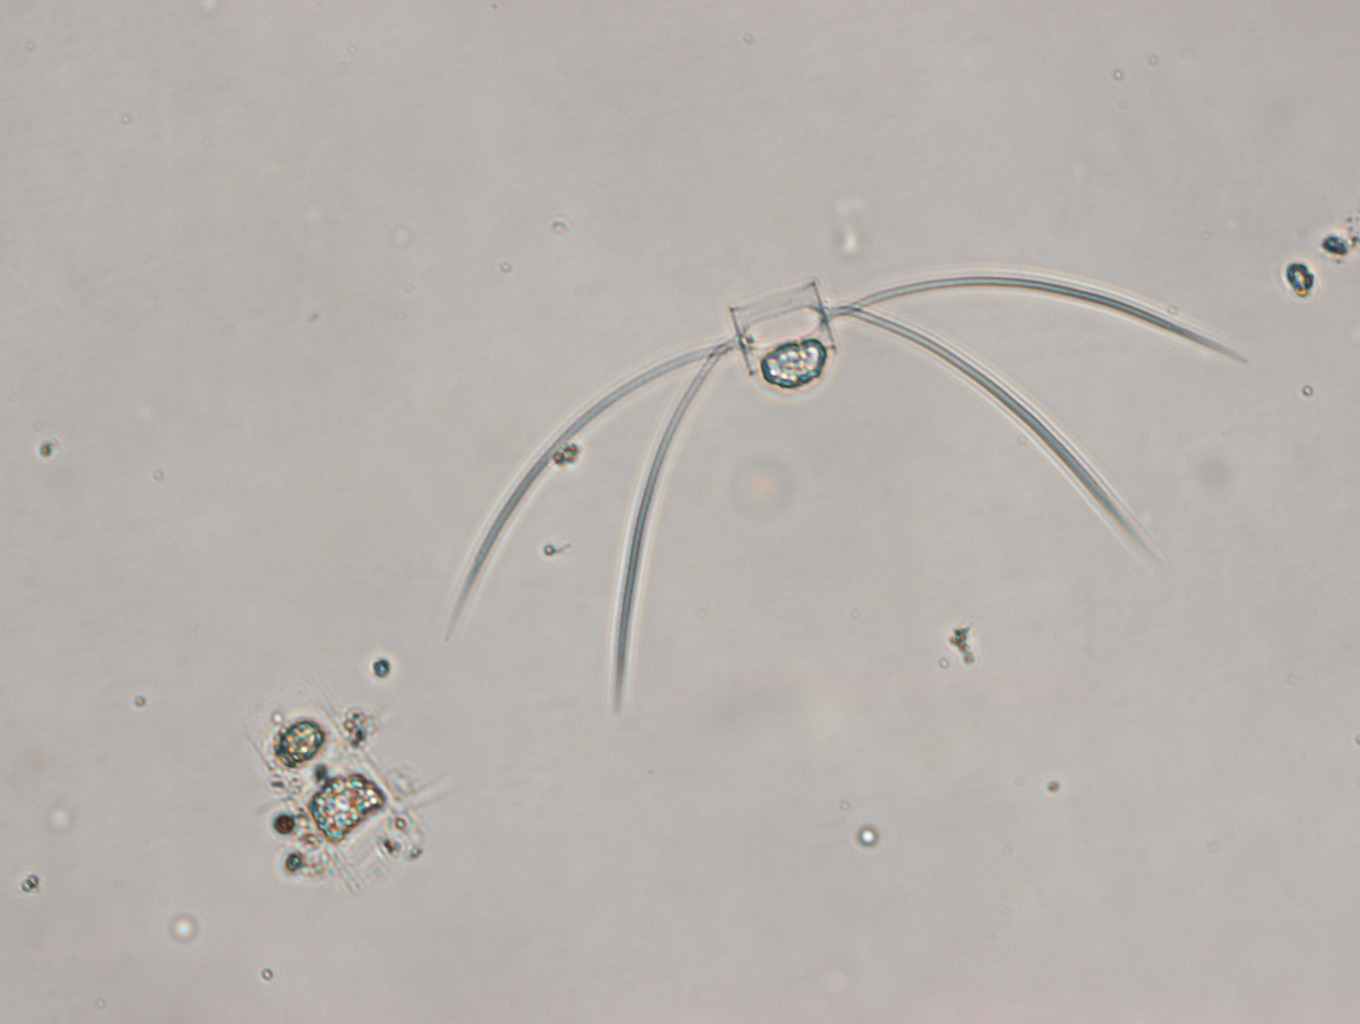chaetoceros: (446, 272, 1252, 714), (241, 689, 457, 894)
